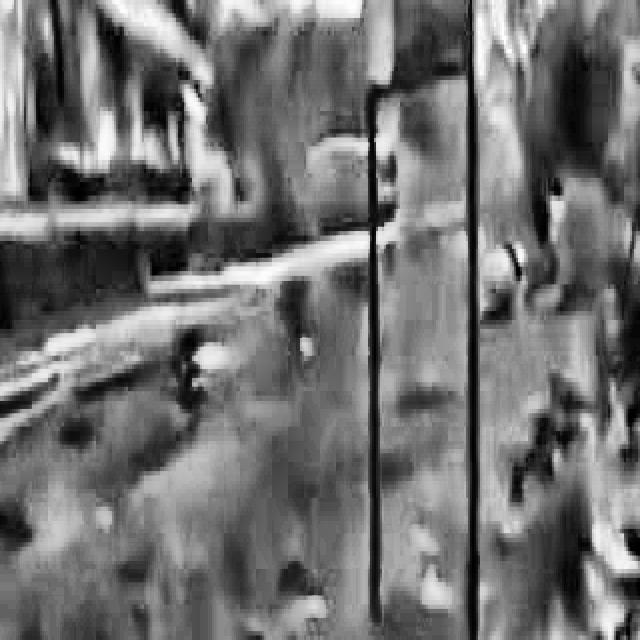Kereta: (0, 0, 220, 271)
